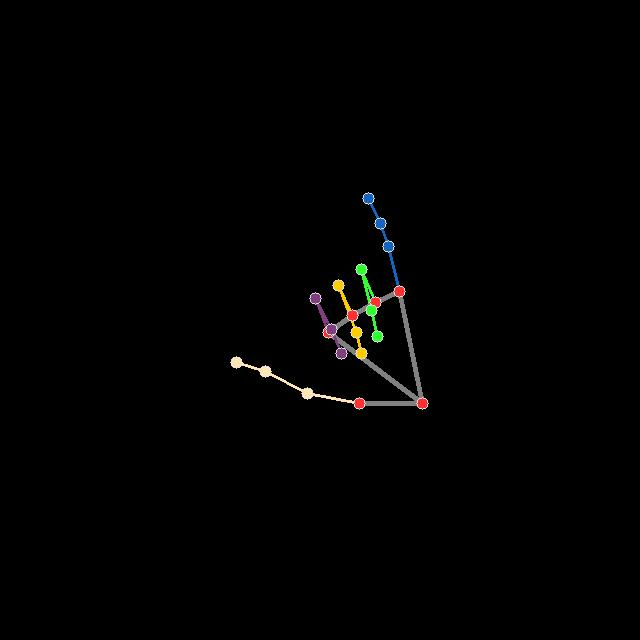skr: (229, 190, 430, 412)
